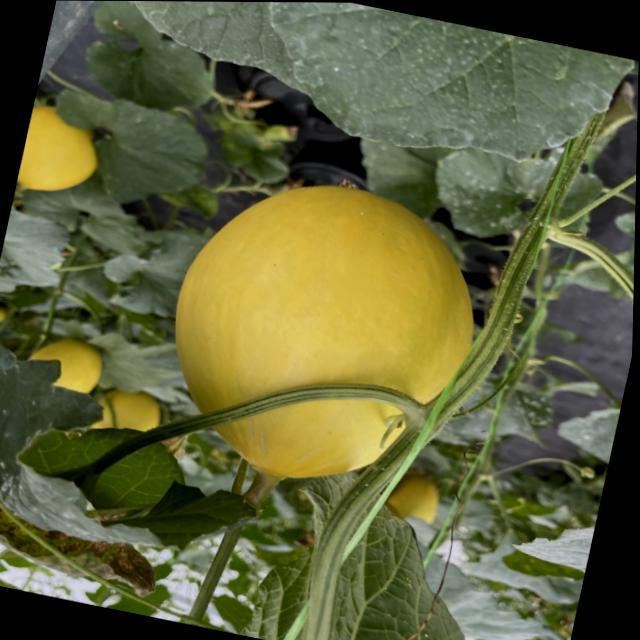bacterial wilt: (0, 494, 166, 597)
downy mildew: (505, 500, 598, 590)
powdery mildew: (119, 1, 614, 180), (0, 328, 111, 515)
